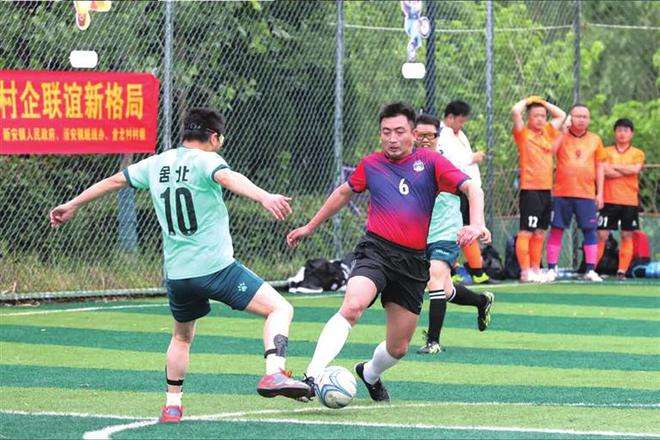football: (315, 364, 358, 408)
